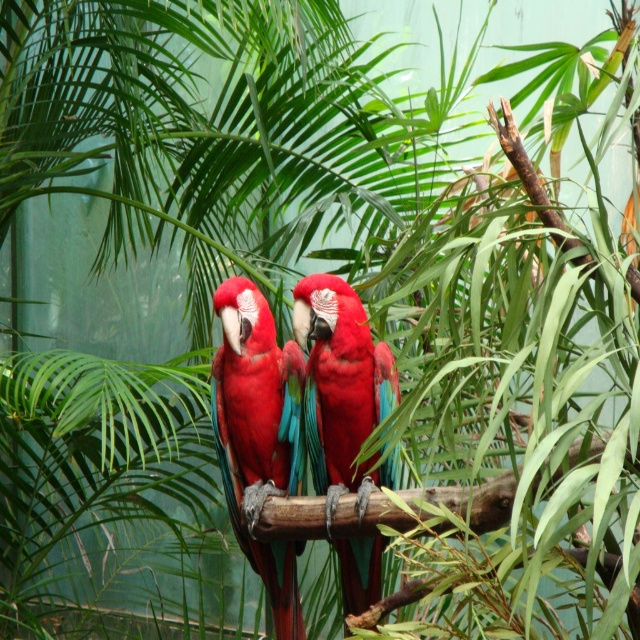Parrot: (287, 269, 401, 636), (210, 271, 309, 639)
